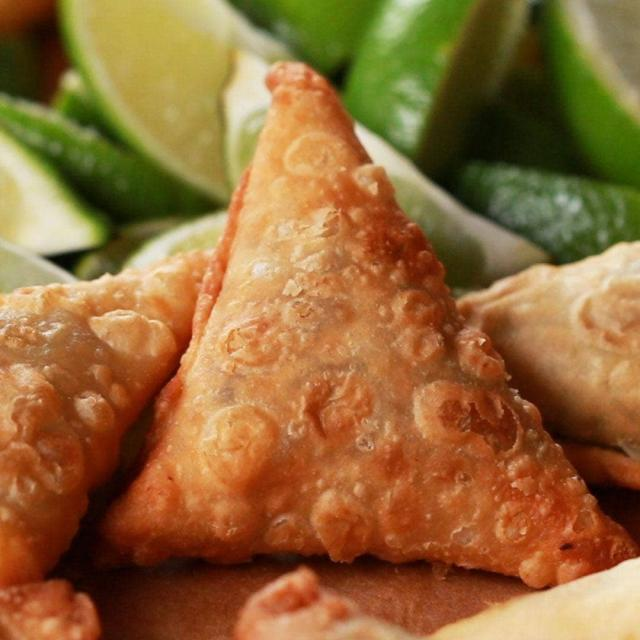samosa: (115, 37, 616, 614)
